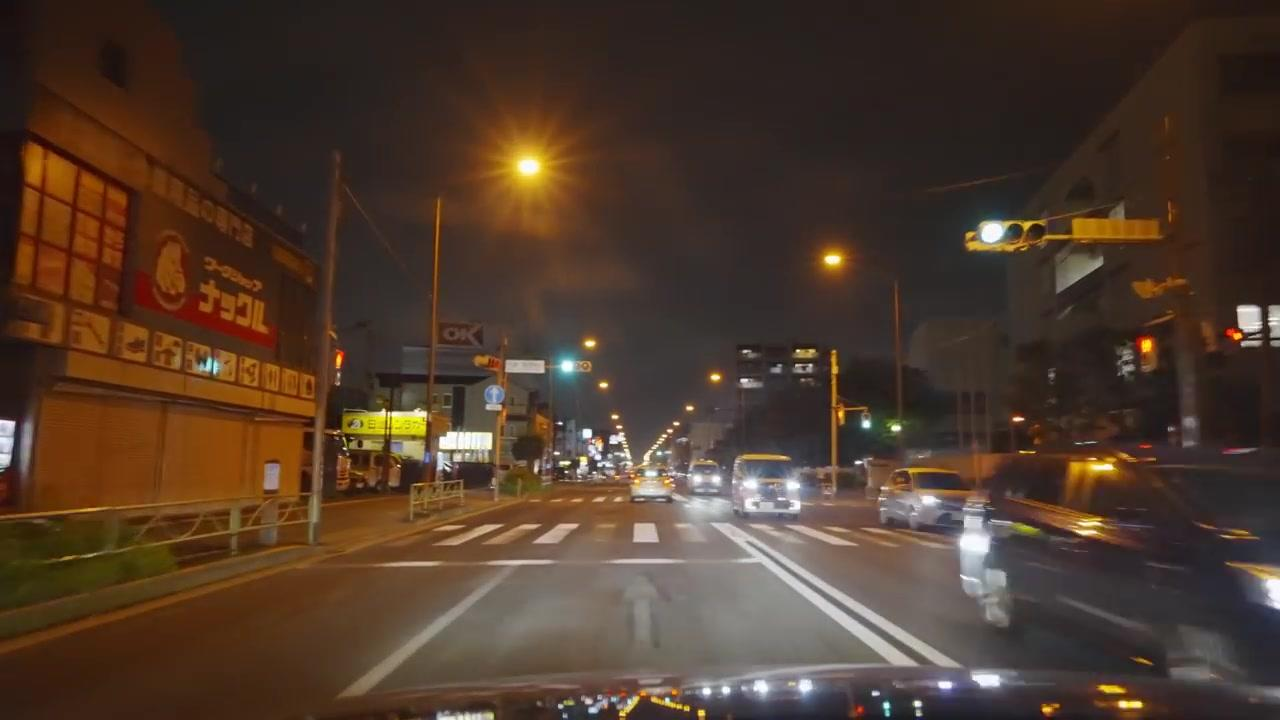bus: (730, 452, 801, 521)
car: (969, 454, 1280, 677), (878, 466, 971, 532), (730, 452, 801, 521), (630, 467, 674, 503), (690, 460, 721, 497)
traffic light: (1071, 217, 1162, 240), (1137, 334, 1159, 371), (1224, 327, 1245, 344)
truck: (730, 452, 801, 520)
